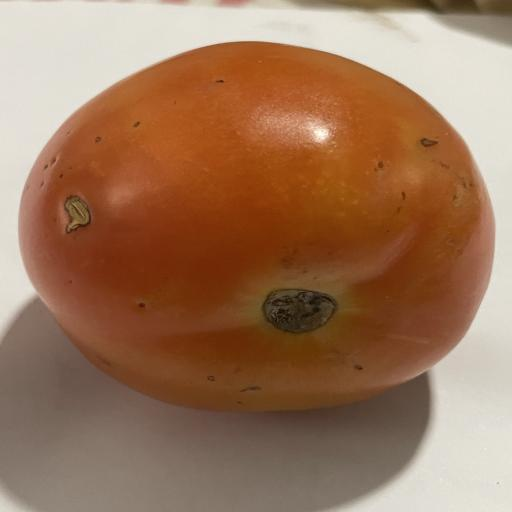unripe: (19, 42, 494, 411)
